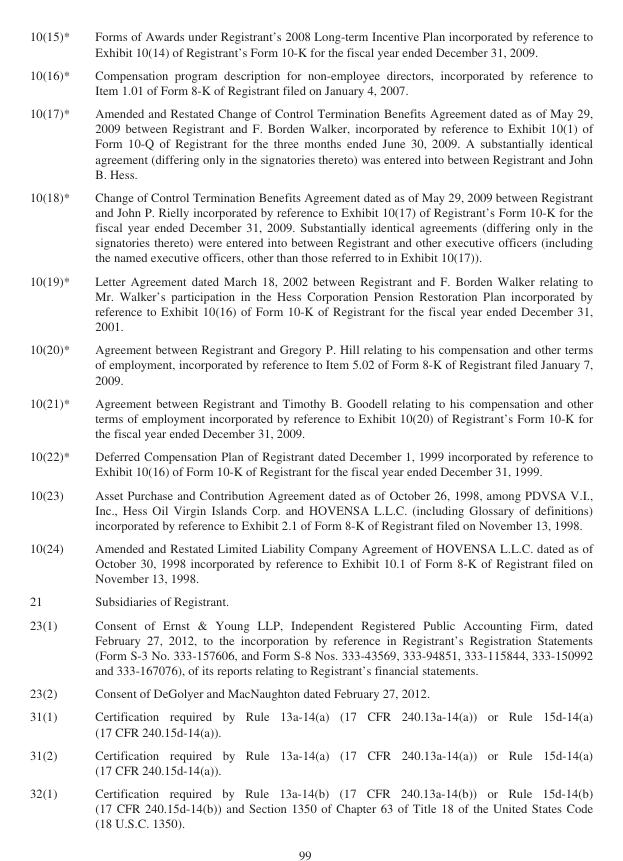table: (29, 29, 592, 830)
table column: (81, 29, 592, 830), (29, 29, 81, 830)
table row: (29, 184, 592, 268), (29, 101, 592, 184), (29, 268, 592, 337), (29, 612, 592, 681), (29, 390, 592, 444), (29, 482, 592, 536), (29, 337, 592, 390), (29, 536, 592, 589), (29, 781, 592, 830), (29, 62, 592, 101), (29, 742, 592, 781), (29, 444, 592, 482), (29, 704, 592, 742), (29, 29, 592, 62), (29, 589, 592, 612), (29, 681, 592, 704)
